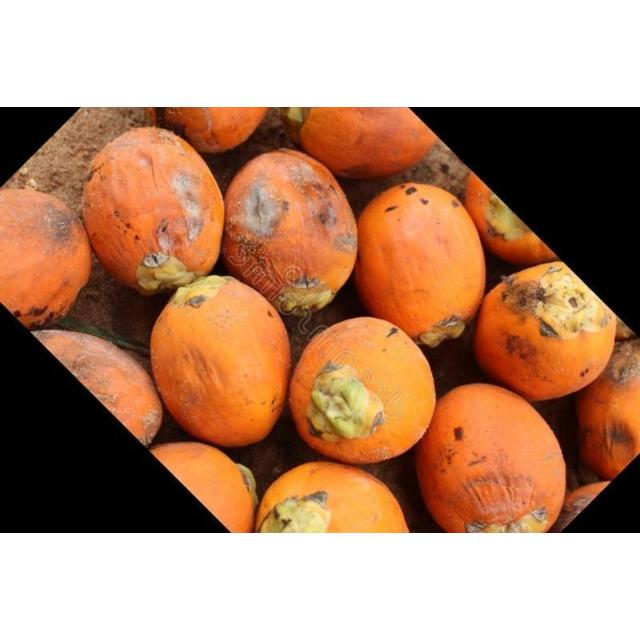good: (156, 272, 300, 448), (296, 316, 439, 469), (358, 181, 490, 345), (422, 381, 564, 533), (481, 262, 615, 398), (264, 459, 428, 533), (147, 443, 266, 533)
